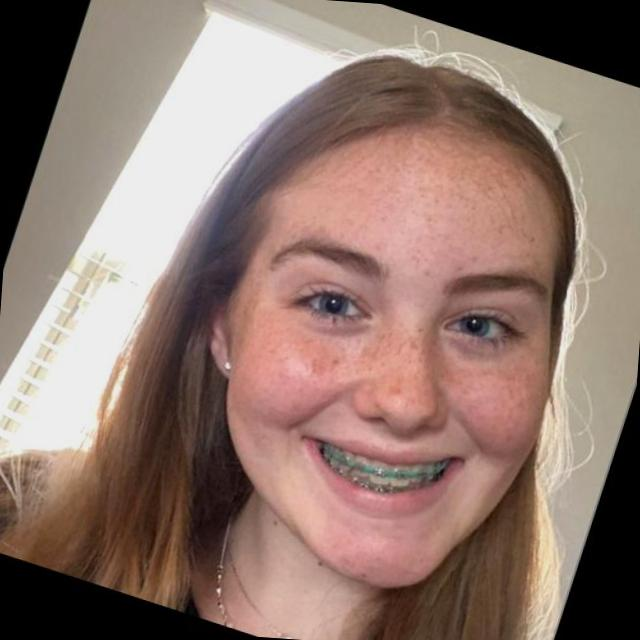freckle: (242, 281, 564, 474), (311, 105, 568, 296)
